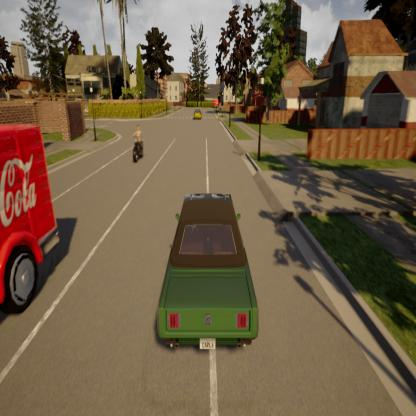Cars: (152, 184, 262, 363), (0, 118, 66, 333), (192, 107, 203, 124)
